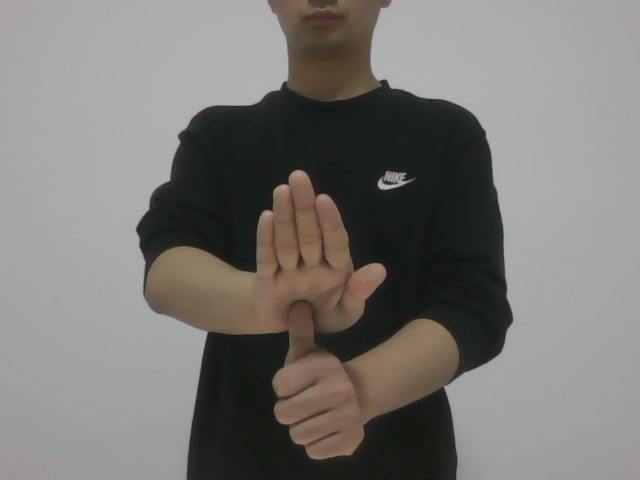love: (238, 174, 385, 462)
